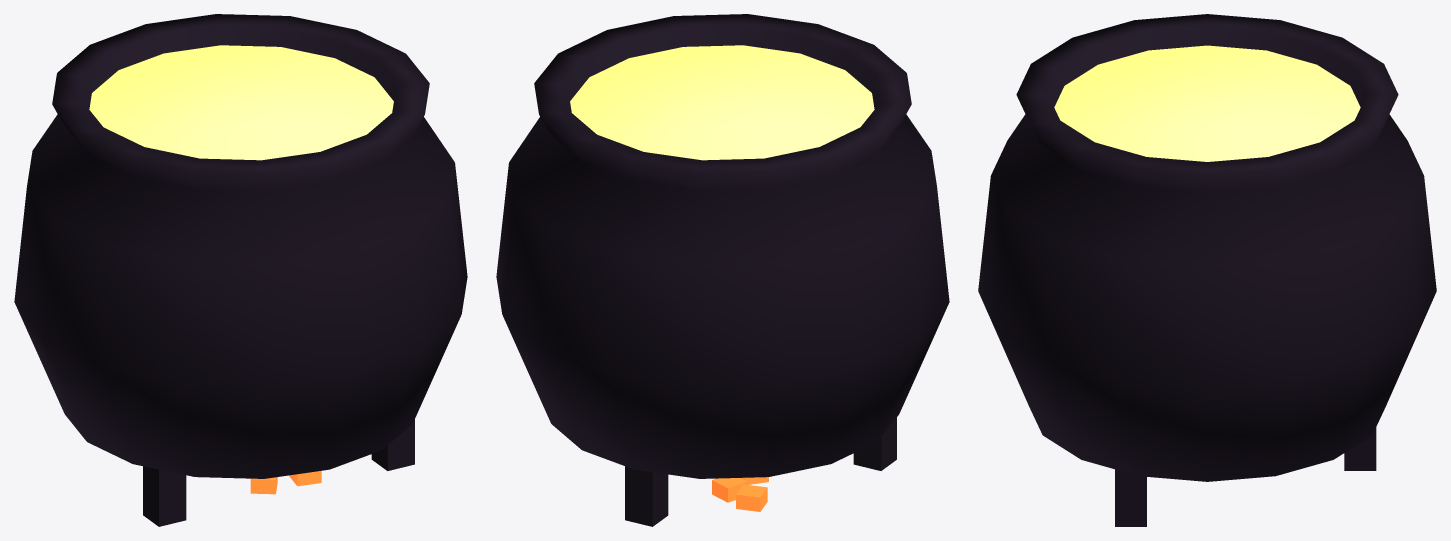
File: cauldron.glb
3 renders of one model, left to right at view 1: azimuth 30°, elevation 25°; view 2: azimuth 150°, elevation 25°; view 3: azimuth 270°, elevation 25°, orthographic.
Visible parts, largest first — view 1: cauldron; view 2: cauldron; view 3: cauldron.
Part boxes in pixels (x1,y1,x2,y2): cauldron: (14, 14, 467, 526); cauldron: (496, 14, 949, 526); cauldron: (978, 14, 1436, 526).
Bounding box in the file's own units: 0.72 × 0.64 × 0.72.
